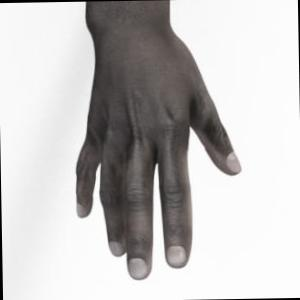paper: (76, 0, 241, 279)
